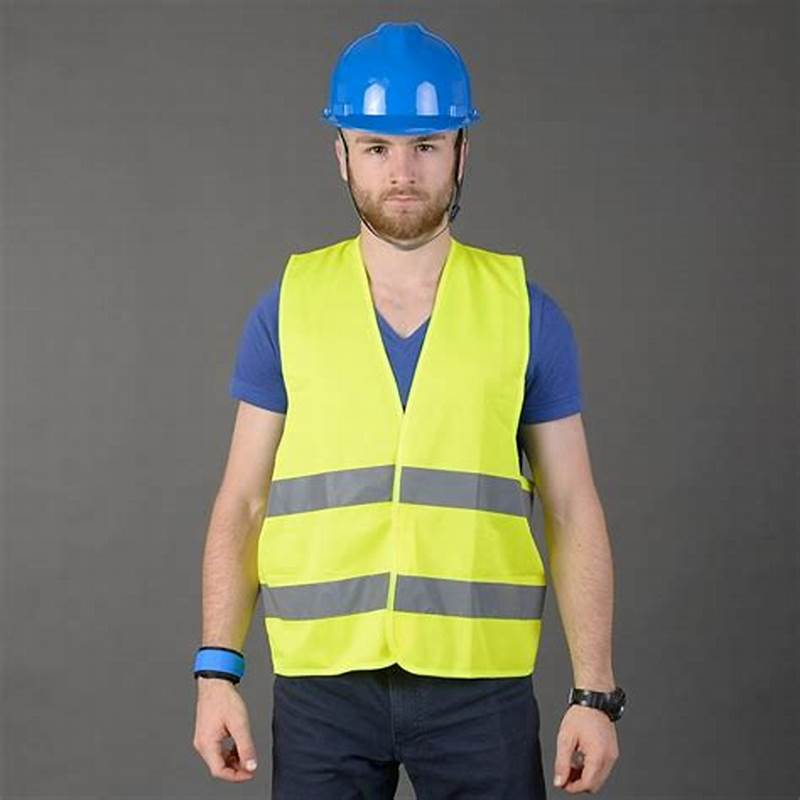Helmet: (314, 15, 491, 256)
Reflective vest: (259, 237, 549, 684)
